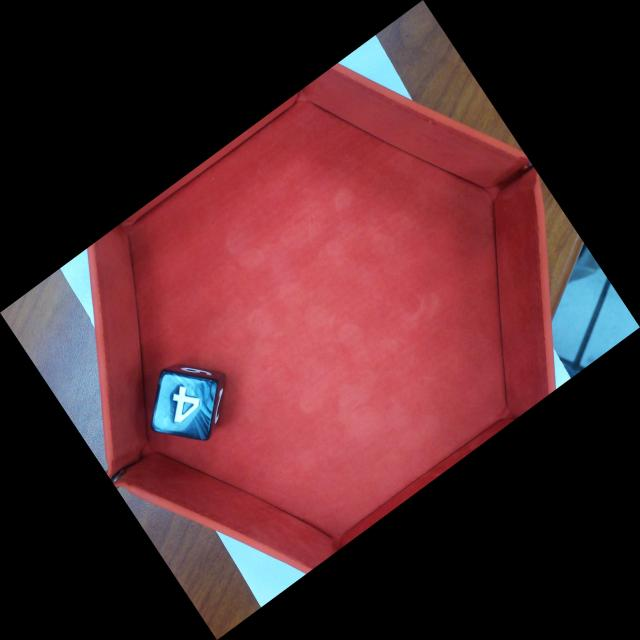dice: (152, 371, 223, 439)
